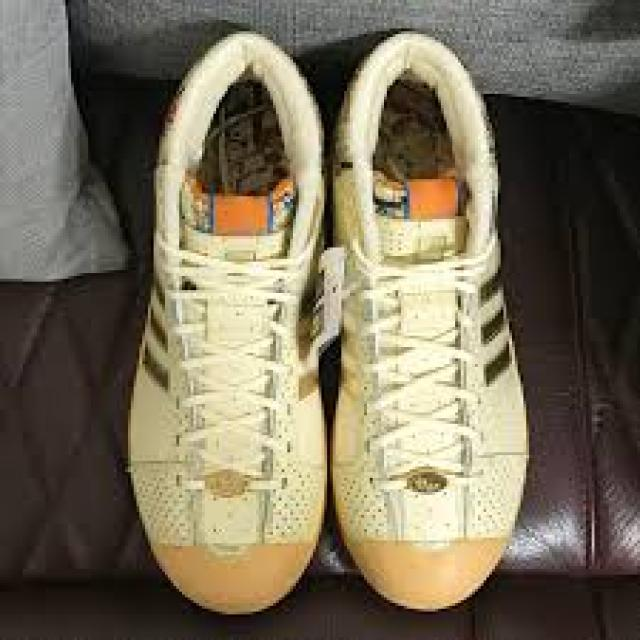shoe: (321, 31, 529, 614), (128, 31, 330, 620)
